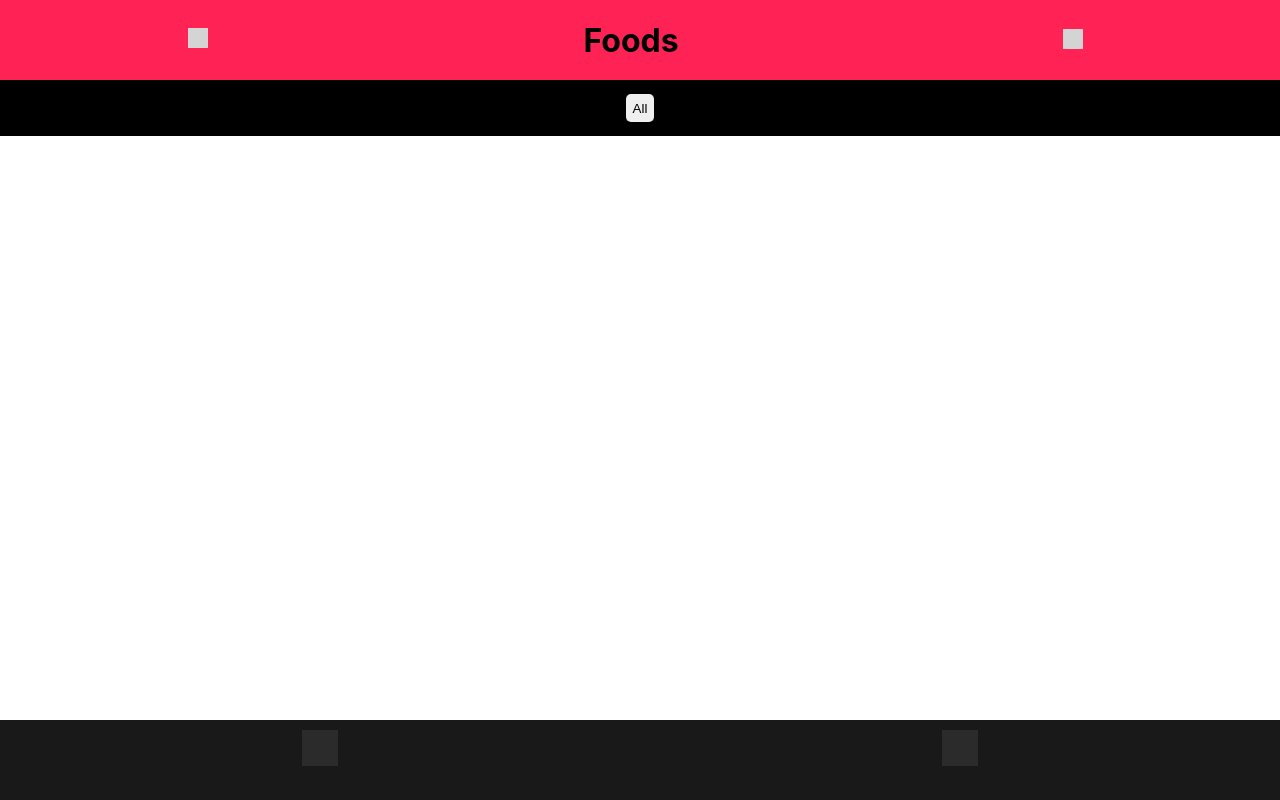
it: Testando o component do Header › Testando o click do botão de Buscar
Click the button with test id "search-top-btn" at {"x": 1073, "y": 40}, box [1054,20,1092,60]
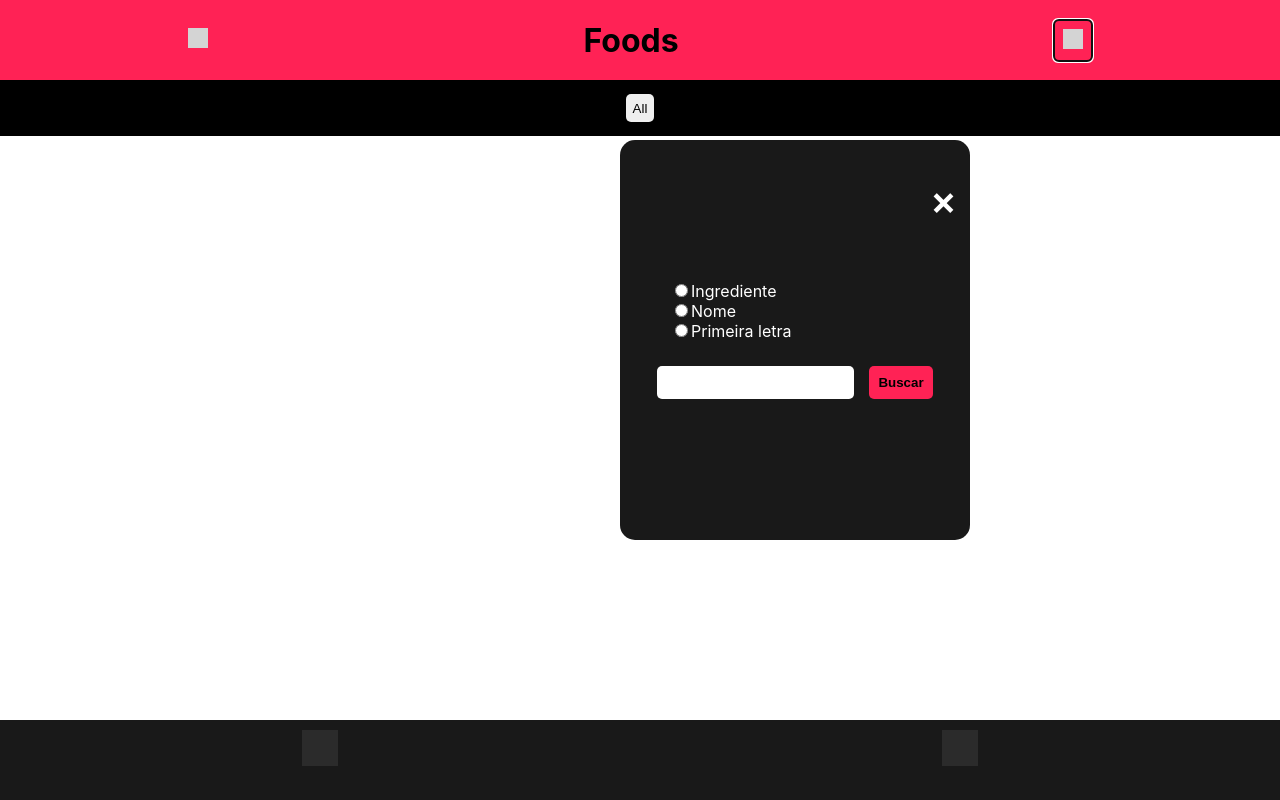
Now the radio button with test id "ingredient-search-radio" is shown, box [675,284,688,297]
Now the radio button with test id "name-search-radio" is shown, box [675,304,688,317]
Now the radio button with test id "first-letter-search-radio" is shown, box [675,324,688,337]
Click the button with test id "search-top-btn" at {"x": 1073, "y": 40}, box [1054,20,1092,60]
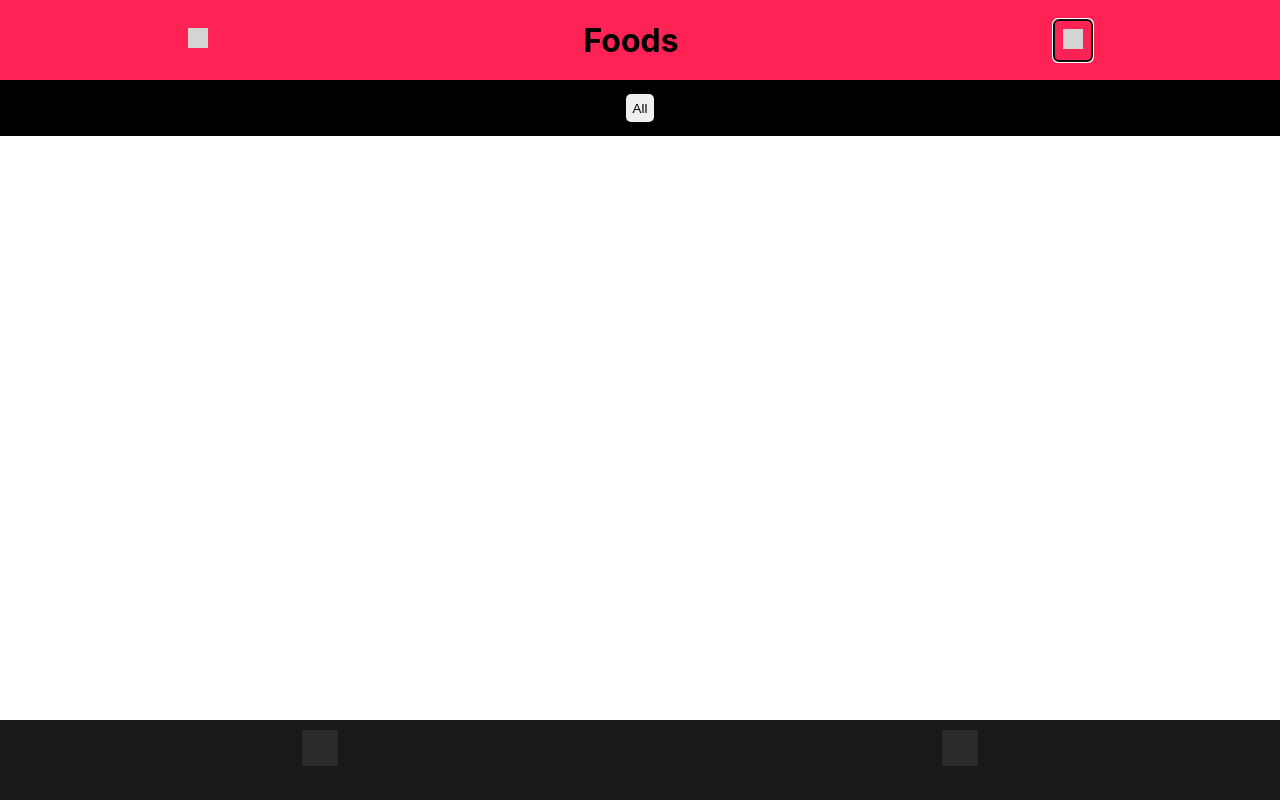
Now the radio button with test id "ingredient-search-radio" is gone
Now the radio button with test id "name-search-radio" is gone
Now the radio button with test id "first-letter-search-radio" is gone
